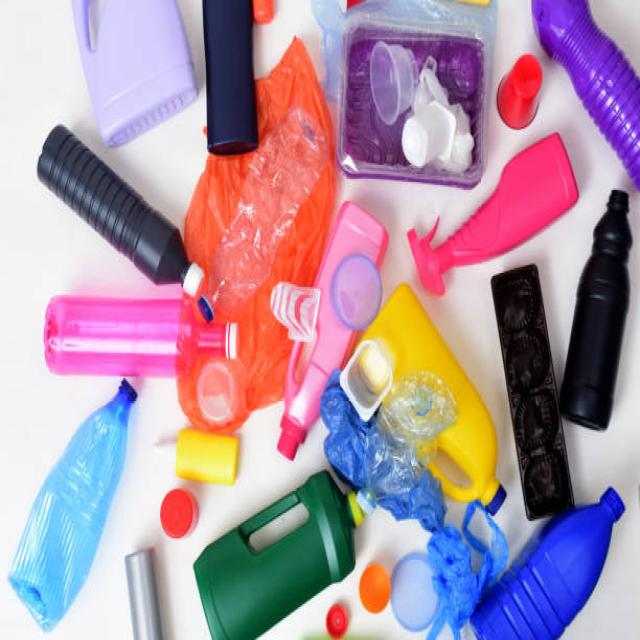plastic: (64, 124, 640, 626)
